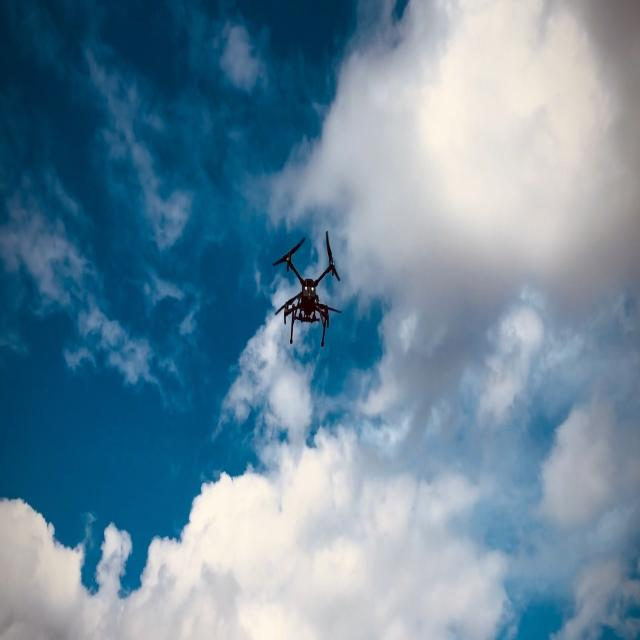drone: (272, 229, 342, 348)
